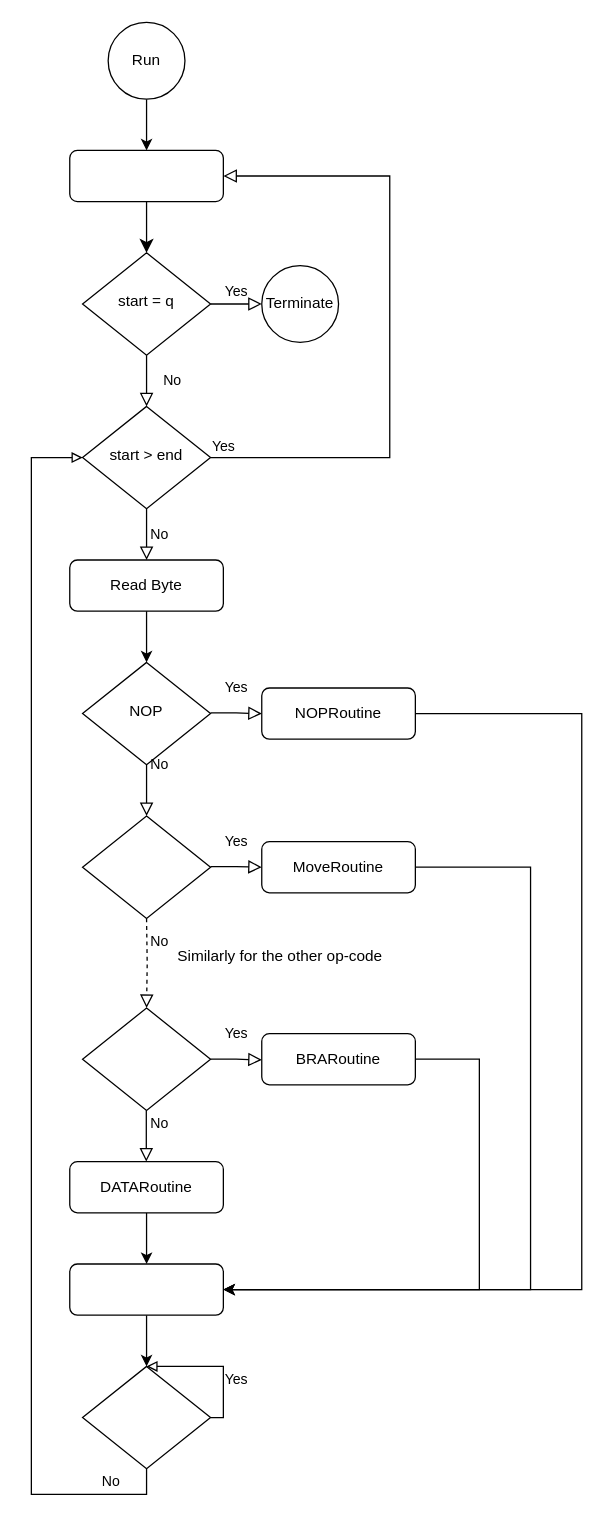
The diagram is 614 pixels wide and 1527 high, and some of its shapes have lost their labels. Here are the shapes that lost their labels. From the top down, the centre of each, then its label:
point (145, 175): Ask User for start and end
point (146, 866): MOVE
point (146, 1058): BRA
point (145, 1289): Print Line
point (146, 1417): Screen is Full and User didn't type "enter"
